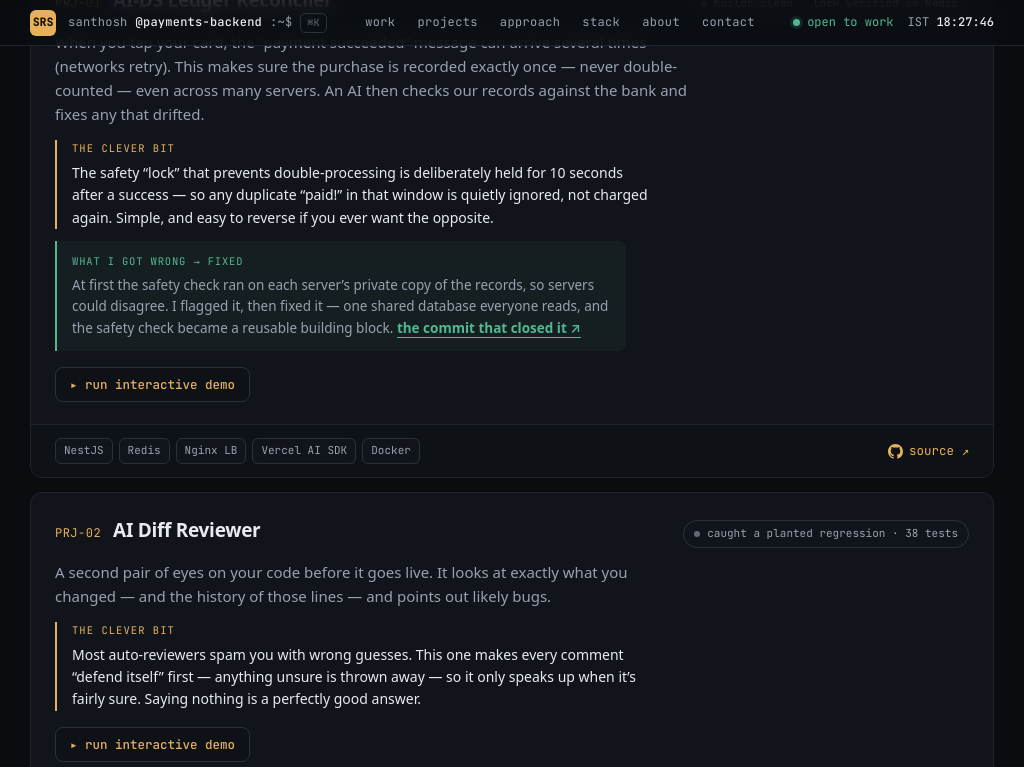
Test: ConcurrencyDemo (ledger reconciler) › with early unlock, the late duplicate also gets through (double-charge)
The width and height of the screenshot is (1024, 767).
(page scrolled)
Click the button "▸ run interactive demo" below "the commit that closed it".
click(152, 385)  # box 55,368 -> 250,402
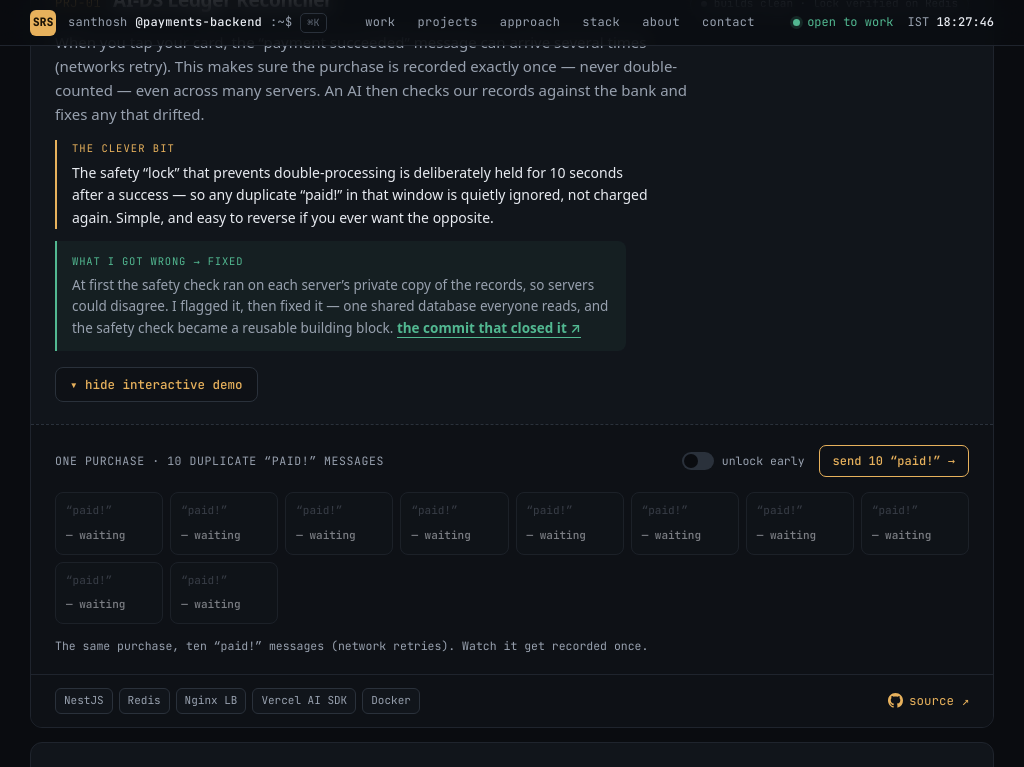
Click the switch.
click(743, 462)  # box 682,452 -> 804,471
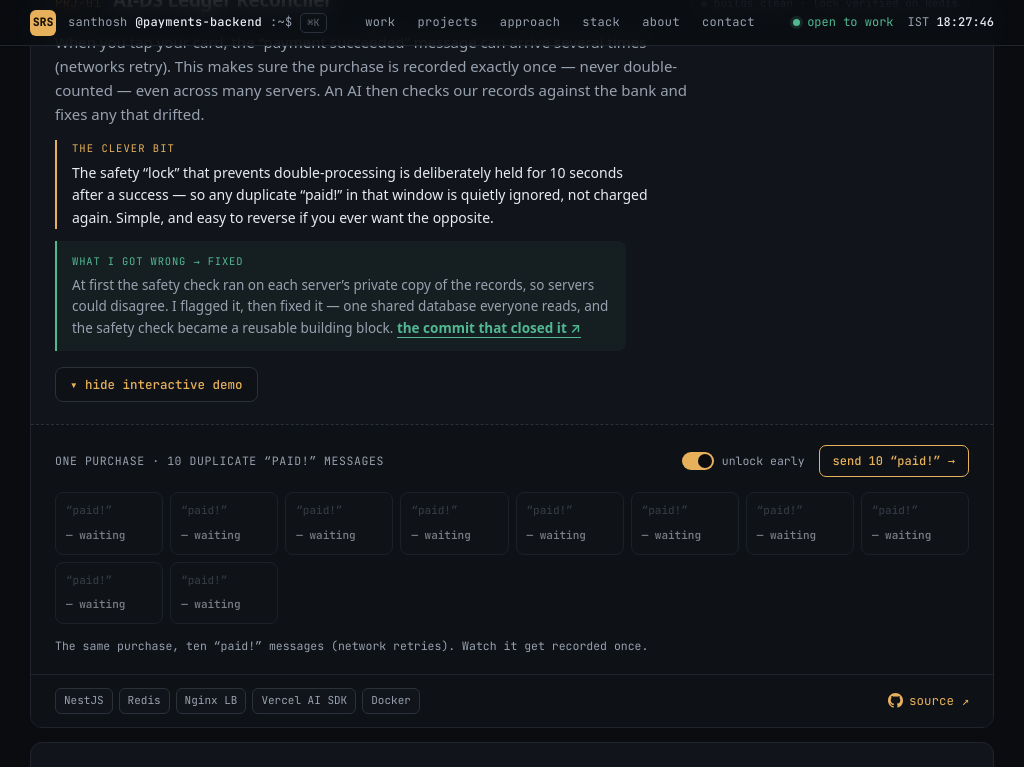
Click the button "send 10 “paid!” →".
click(894, 462)  # box 818,446 -> 969,478
Wait 2000 ms
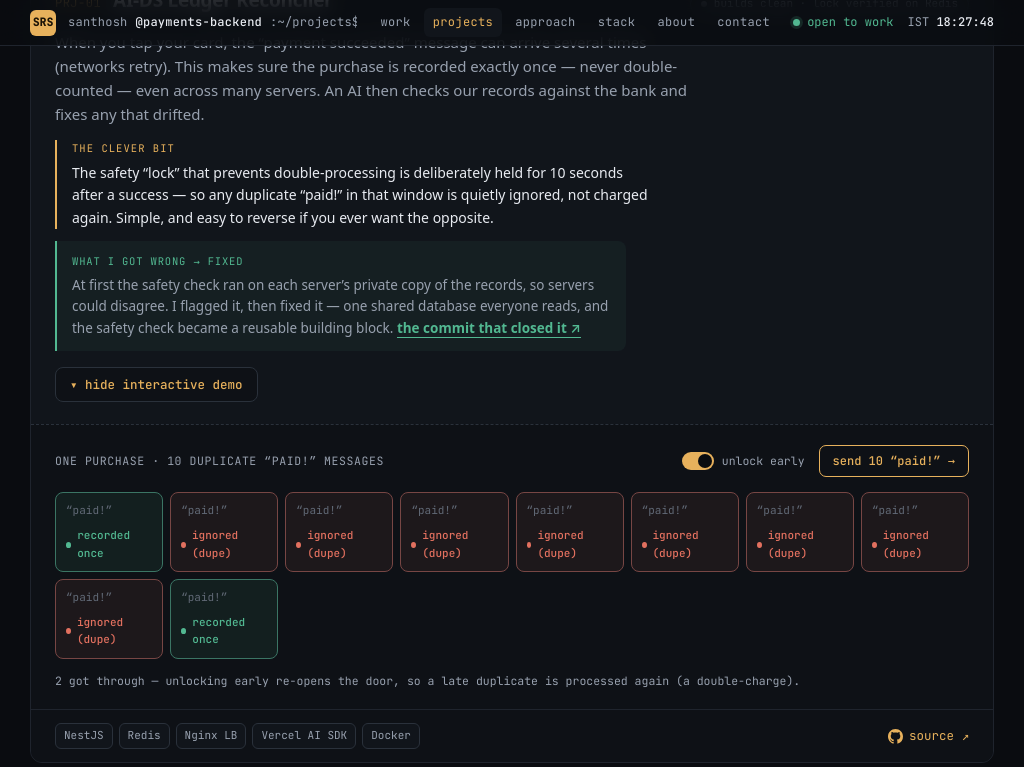
Expected: the number of elements with class "block" is 8
Expected: the text "2 got through" is shown, 55,673 -> 800,688
